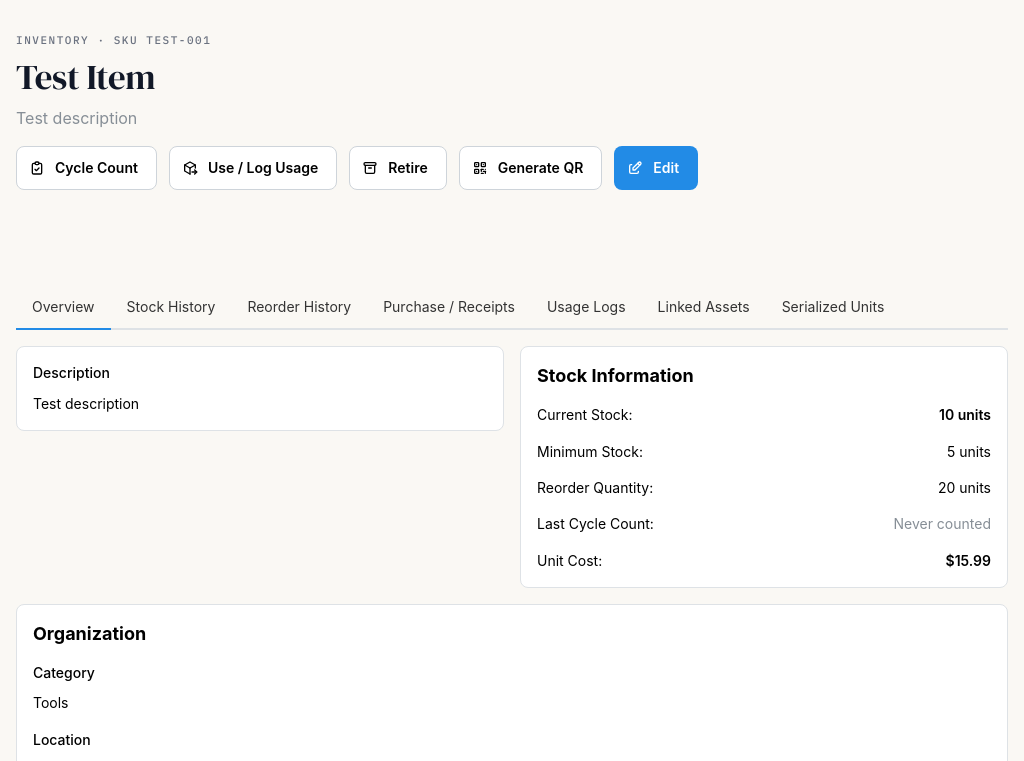
it: InventoryItemDetailPage — cycle count › opens the Cycle Count modal with its form controls
expect the heading "Test Item" is shown: met, box [16, 53, 155, 101]
Click the button with test id "cycle-count-button" at (86, 168), box [16, 146, 157, 190]
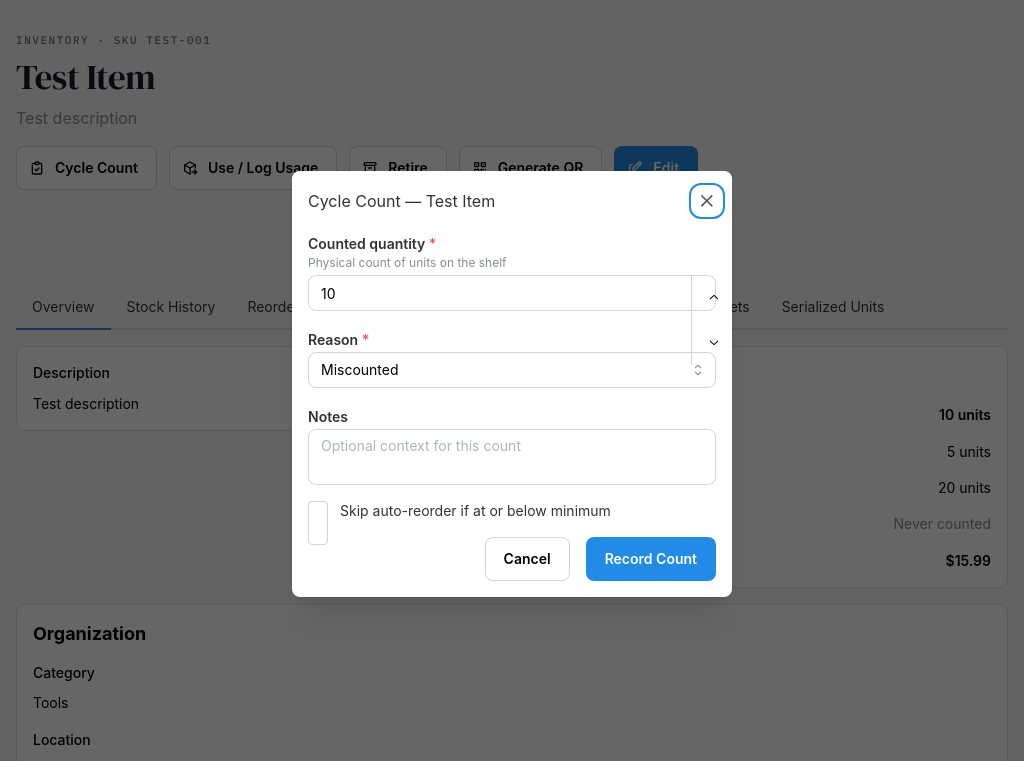
expect the button with test id "cycle-count-submit" is shown: met, box [586, 537, 716, 581]
expect the field labelled "Counted quantity *" is shown: met, box [308, 275, 716, 311]
expect the dropdown with test id "cycle-count-reason" is shown: met, box [308, 352, 716, 388]
